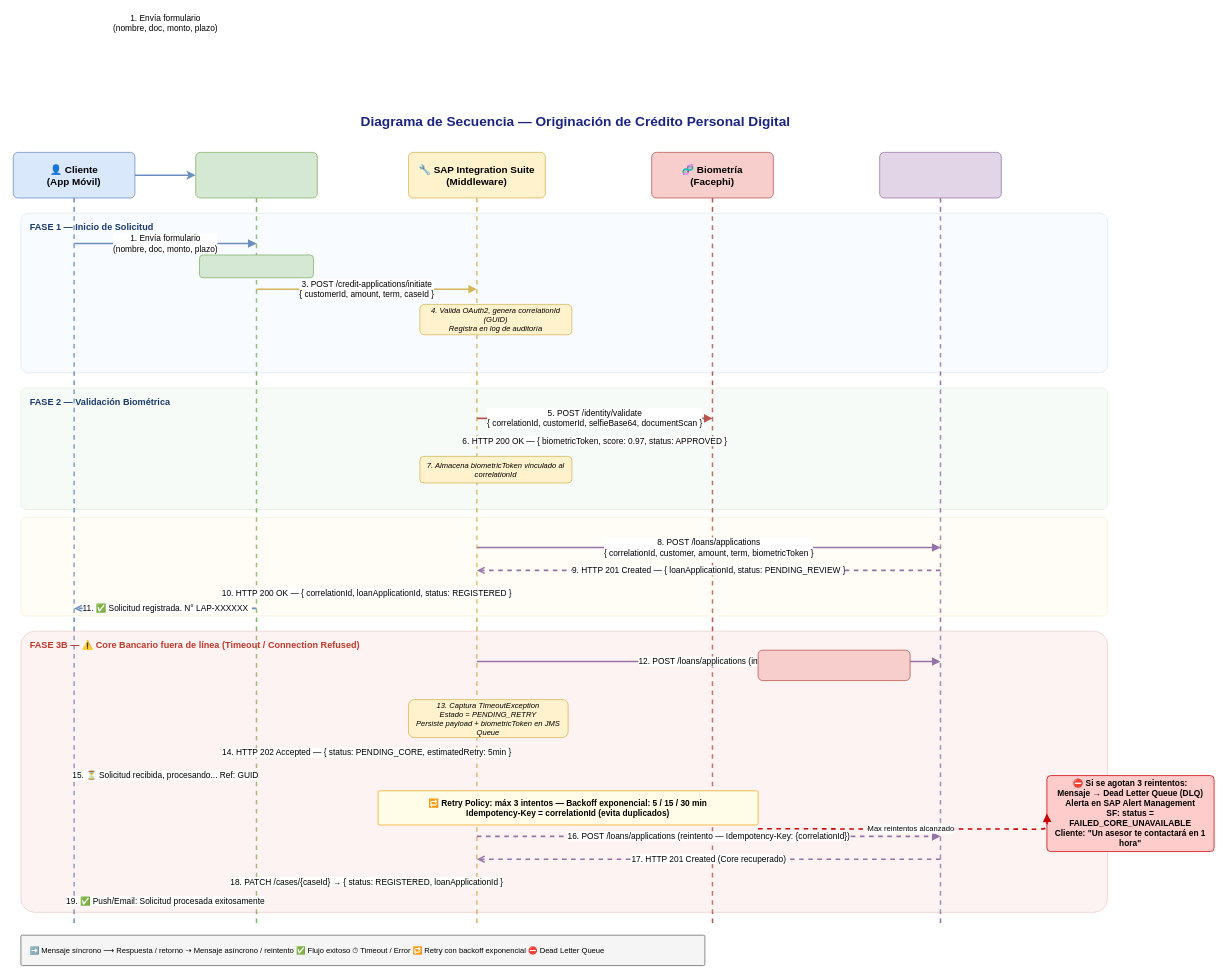
This 1227x979 diagram has some shape labels left out. Here are the shapes that lost their labels. From the top down, the centre of each, then its label:
At point 256,175: "☁️ Salesforce Service Cloud".
At point 940,175: "🏦 Core Bancario (Provider)".
At point 256,266: "2. Valida campos y crea Case/Lead".
At point 564,566: "FASE 3A — Registro en Core Bancario (✅ Flujo Exitoso)".
At point 833,665: "⏱ TCP Timeout (30s) Connection Refused".
